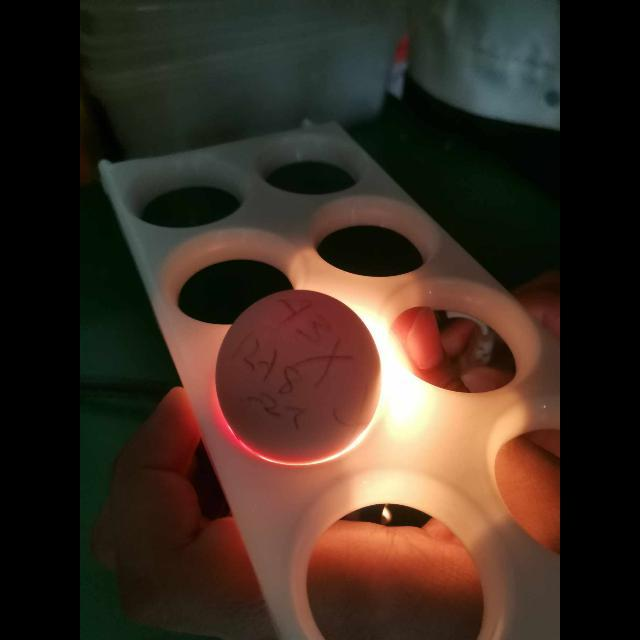Fertile: (215, 286, 387, 458)
